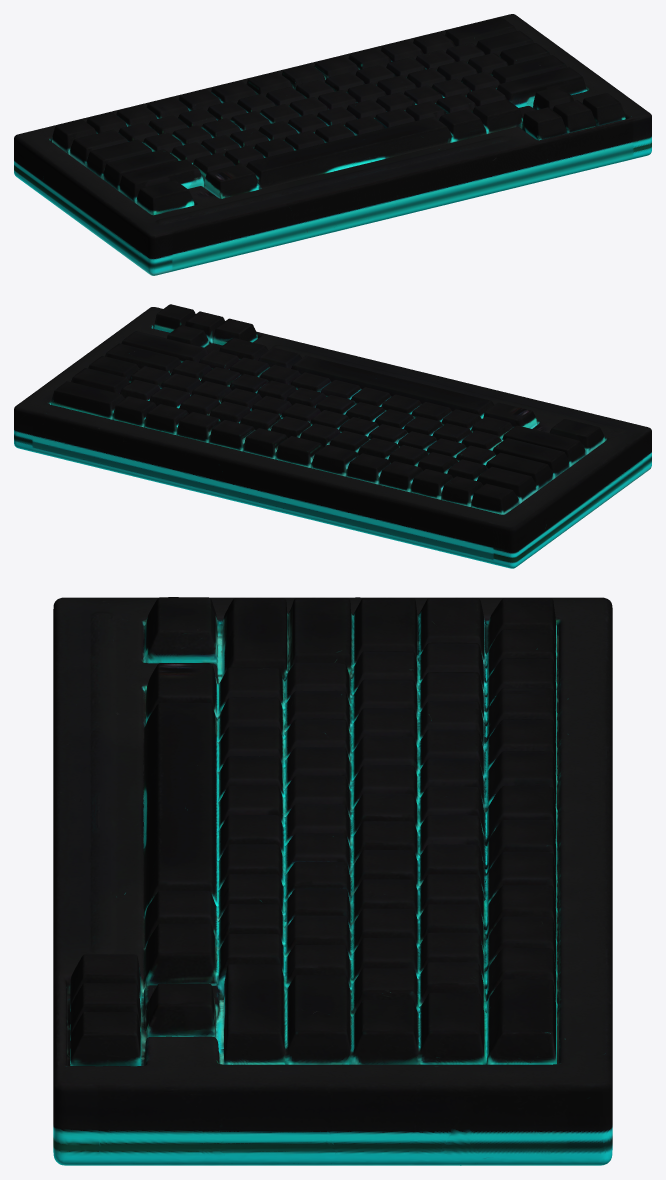
File: Meshy_AI_Cyber_Mechanical_Keyb_0624112113_image-to-3d-texture.glb
3 views of the same model, one above another, from view 1: azimuth 30°, elevation 25°; view 2: azimuth 150°, elevation 25°; view 3: azimuth 270°, elevation 25° (orthographic). The views are drawn at different scales.
Size of the model in its own units: 1.9 by 0.1985 by 0.9152.
1 material, 1 textured.
